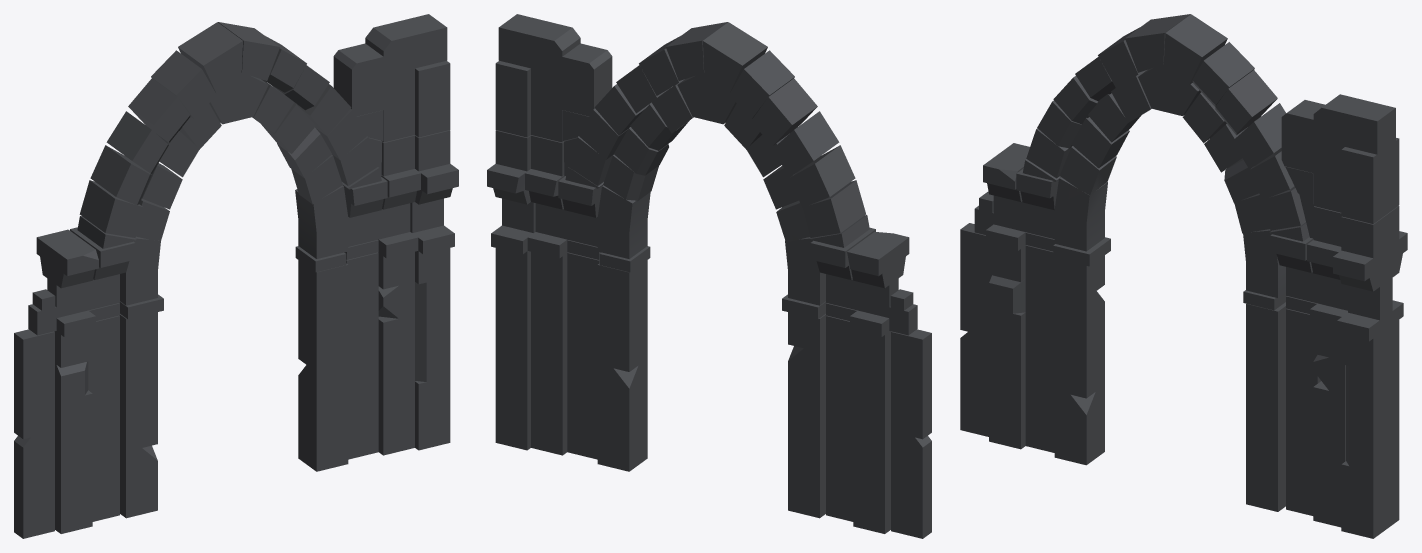
File: d3cd2d4c-7161-4313-8fed-b53c0372b5cc.glb
3 renders of one model, left to right at view 1: azimuth 30°, elevation 25°; view 2: azimuth 150°, elevation 25°; view 3: azimuth 330°, elevation 25°, orthographic.
Parts seen in each view (by area): view 1: Archway1; view 2: Archway1; view 3: Archway1.
Boxes of the visible parts, x1,y1,x2,y2 form: Archway1: (14, 14, 458, 538); Archway1: (487, 14, 931, 538); Archway1: (960, 14, 1407, 538).
Bounding box in the file's own units: 1321 × 1362 × 233.
1 material, 1 textured.
